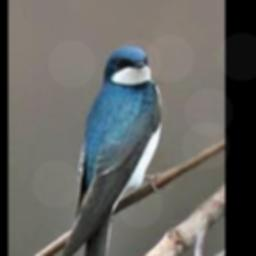Swallow: (59, 45, 162, 256)
